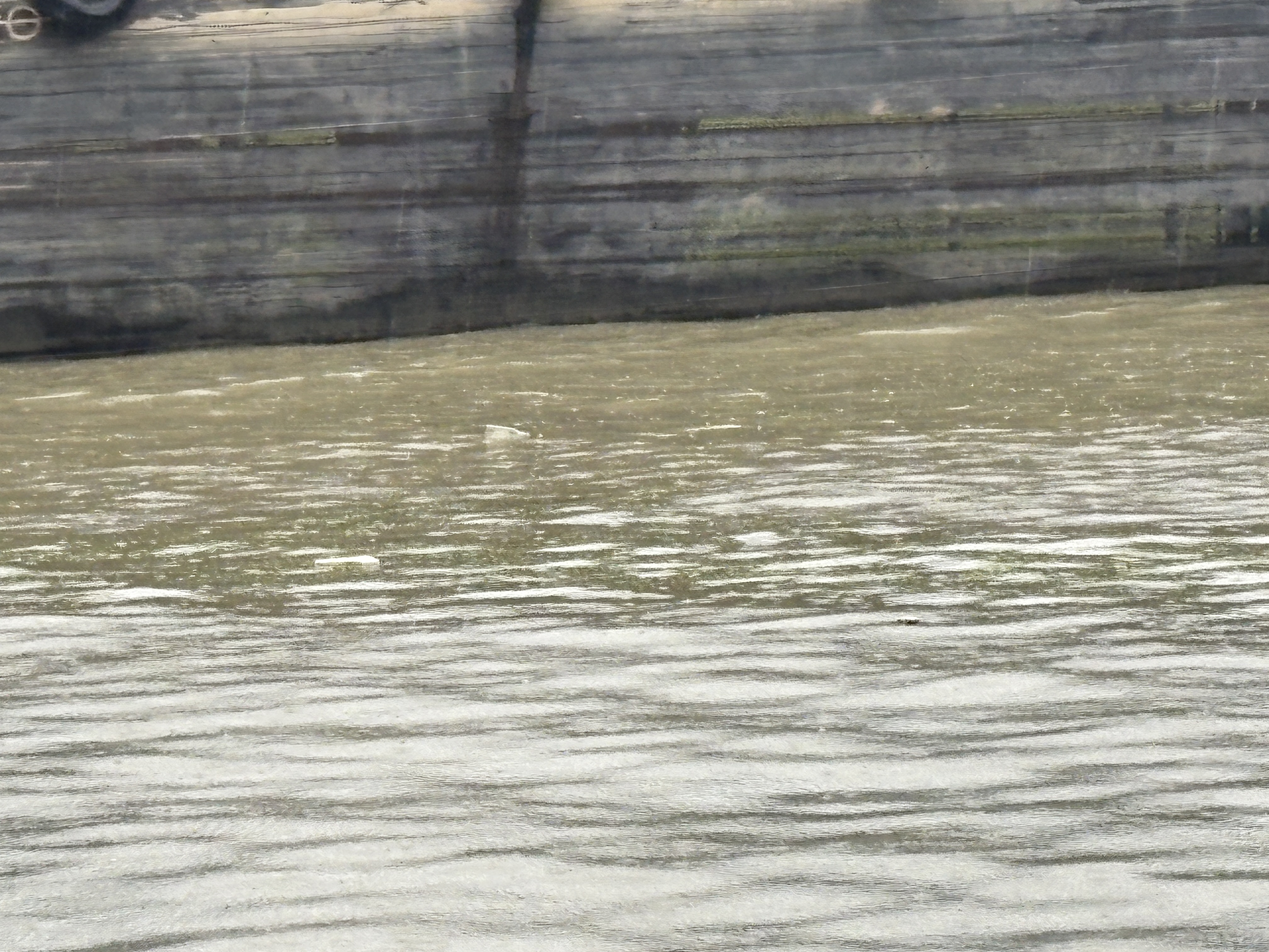Plastic wastes: (479, 422, 531, 439), (315, 555, 379, 567), (894, 615, 917, 625)
